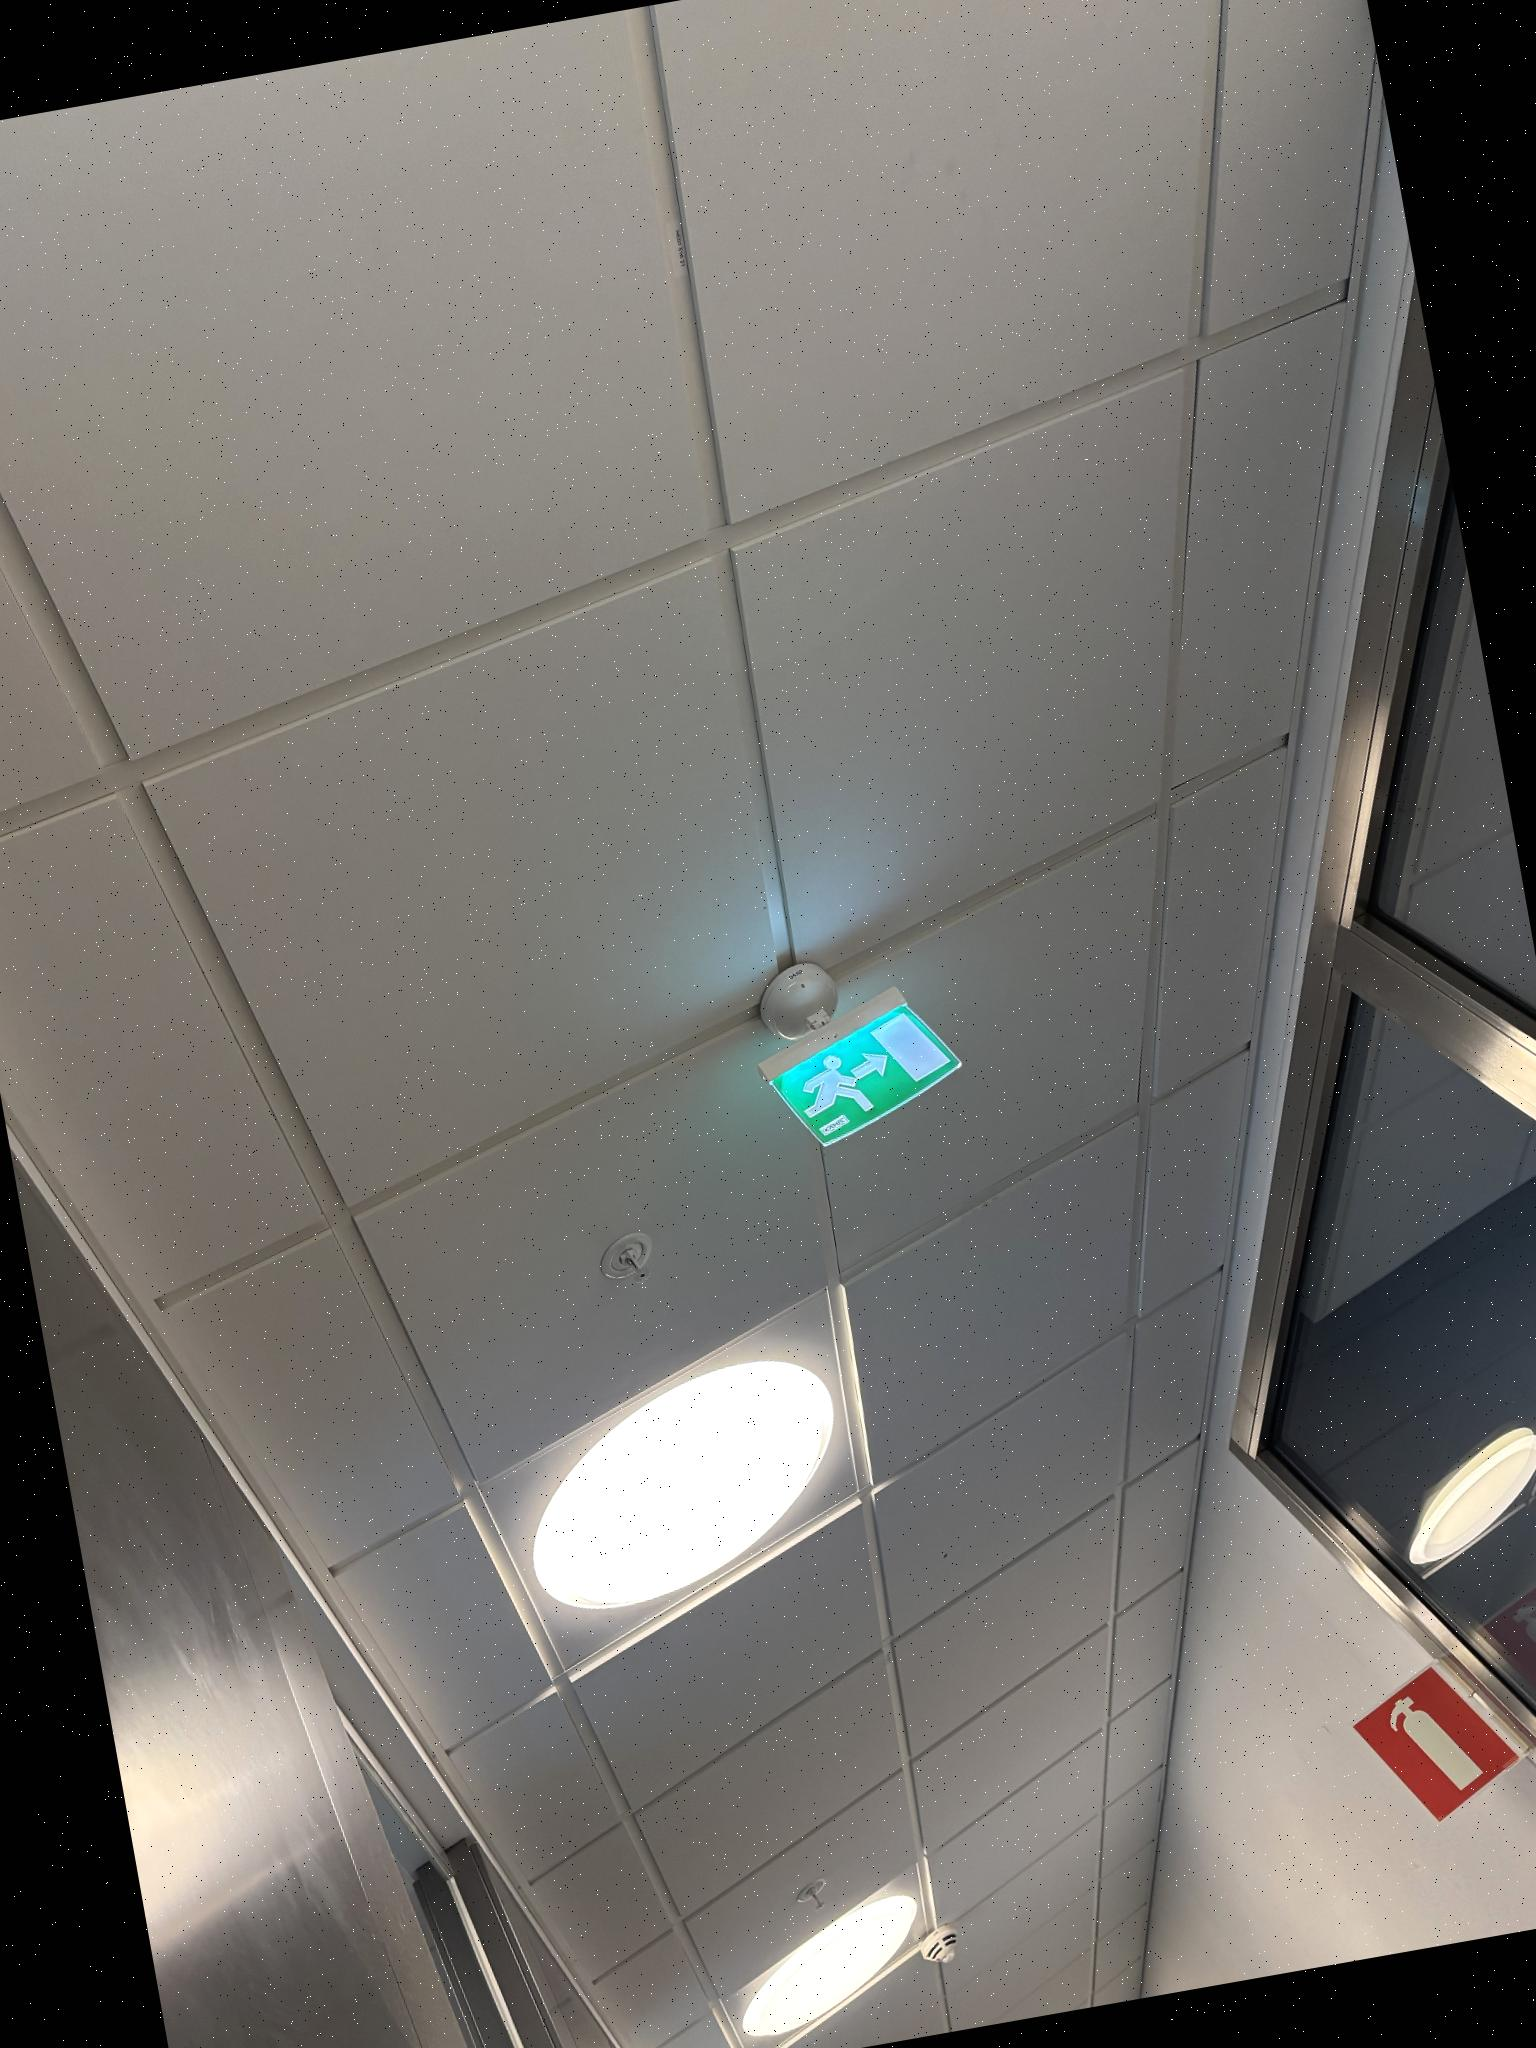exit_sign: (770, 990, 973, 1148)
